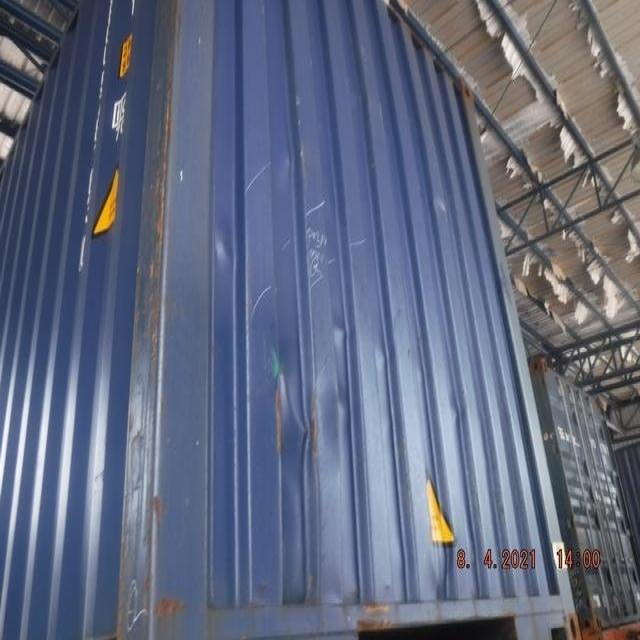dent: (273, 338, 322, 468), (328, 378, 366, 481), (209, 213, 242, 276), (371, 335, 398, 387), (326, 308, 351, 352)
